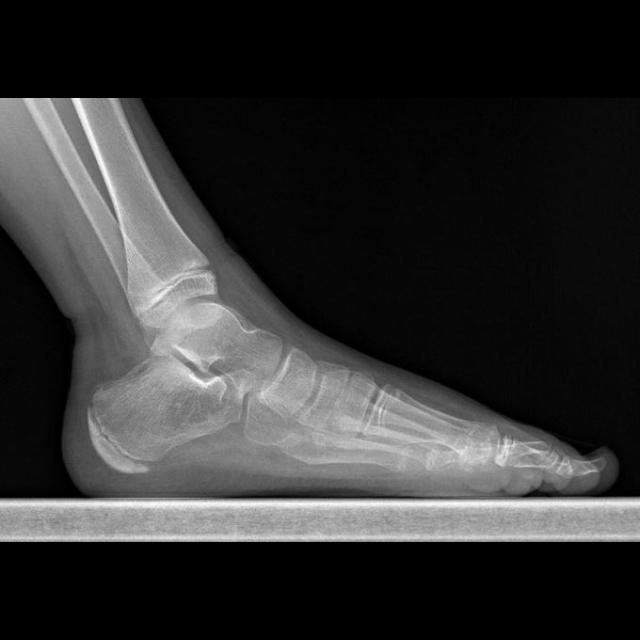a: (87, 356, 242, 472)
b: (260, 347, 319, 419)
c: (358, 385, 500, 463)
